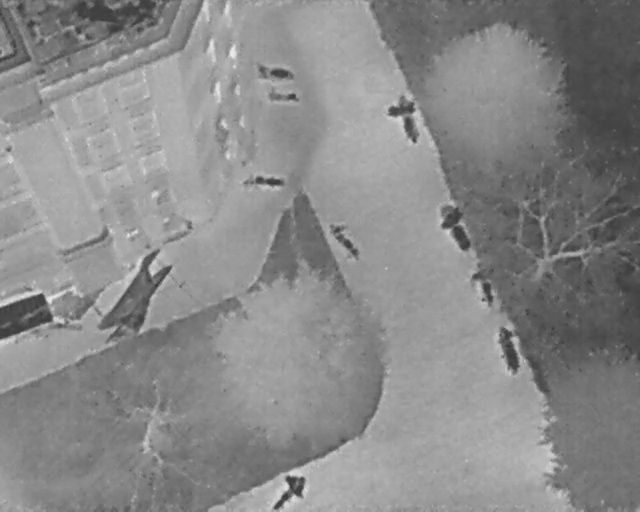Bicycle: (427, 193, 483, 258), (380, 88, 427, 151), (322, 213, 369, 267), (489, 320, 528, 379), (466, 263, 502, 311), (270, 472, 307, 510), (254, 62, 298, 83), (242, 169, 286, 190), (265, 87, 303, 106)
